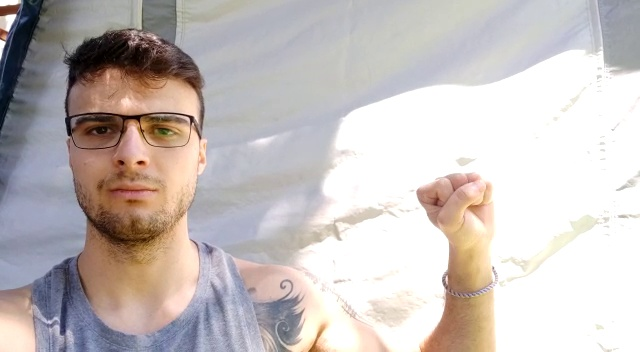Fist: (415, 169, 499, 254)
